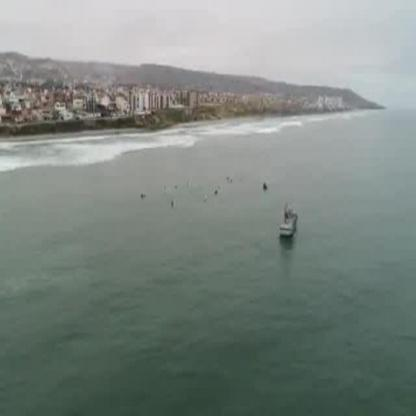Boat: (276, 207, 300, 238)
